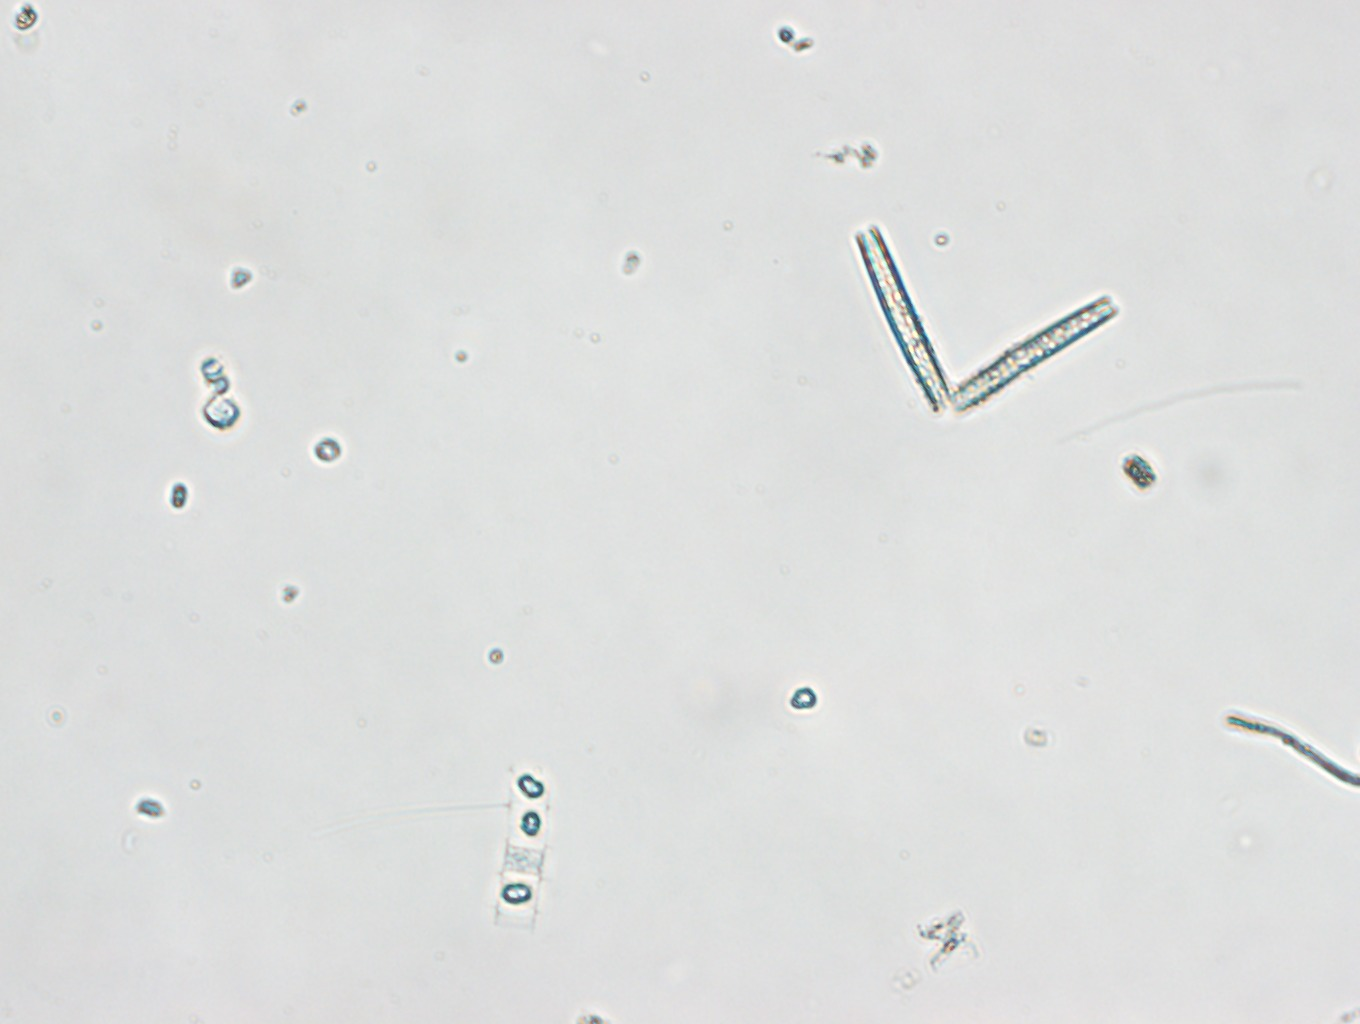thalassionema nitzschioides: (854, 223, 1118, 410)
